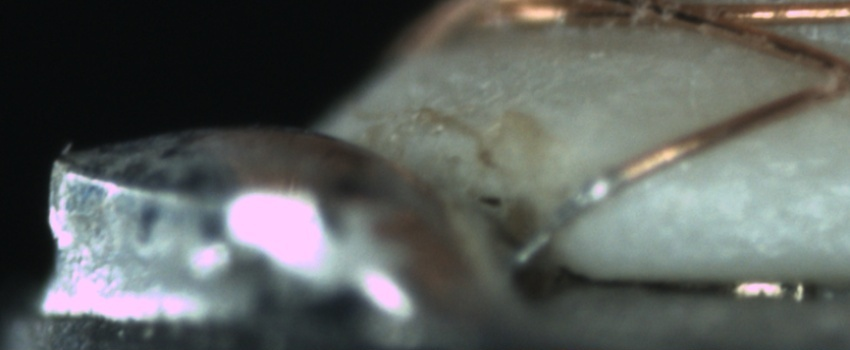CL: (798, 41, 849, 105)
TS: (517, 171, 621, 269)
TTCW: (512, 144, 670, 267)
